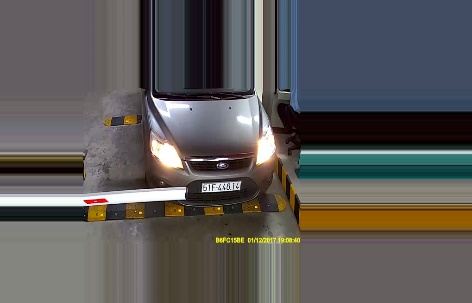plate: (200, 178, 243, 192)
